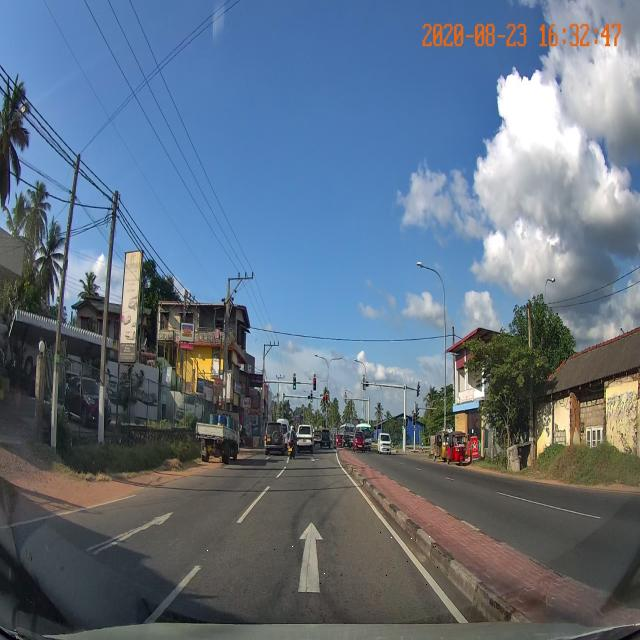forward: (169, 521, 451, 601)
